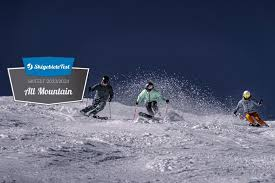skis: (135, 110, 164, 127), (244, 112, 267, 130), (81, 111, 112, 123)
